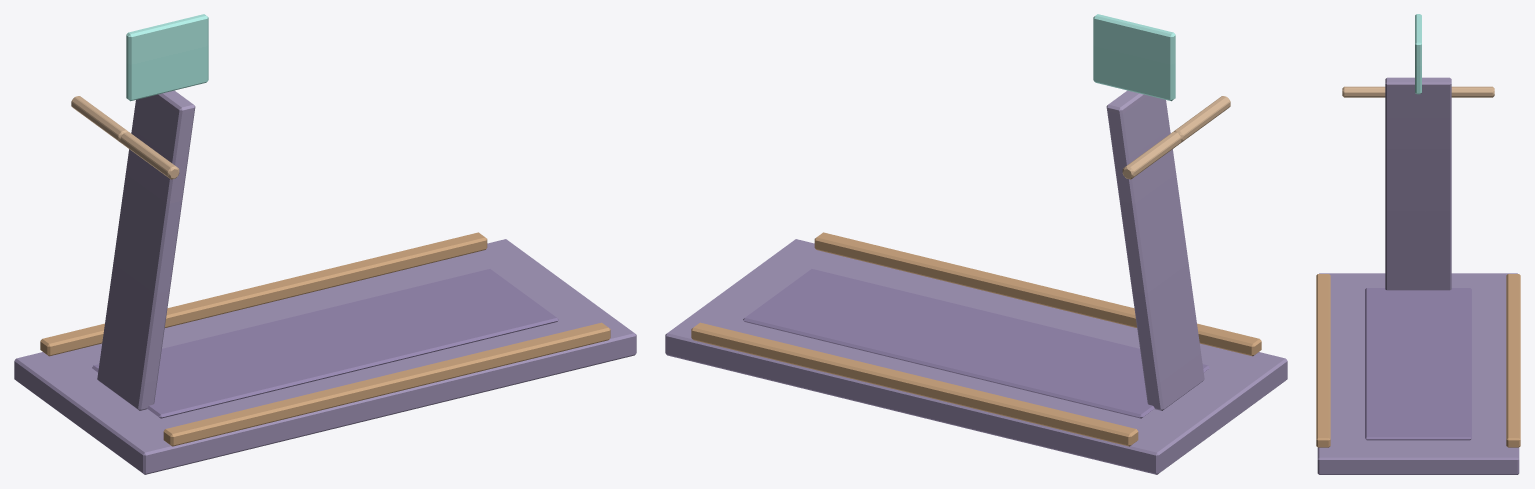
The model's file is gym-treadmill.glb.
3 renders of one model, left to right at view 1: azimuth 30°, elevation 25°; view 2: azimuth 150°, elevation 25°; view 3: azimuth 270°, elevation 25°, orthographic. The views are drawn at different scales.
Parts seen in each view (by area): view 1: treadmill; view 2: treadmill; view 3: treadmill.
Boxes of the visible parts, left/top/right/bottom form: treadmill: left=14, top=14, right=636, bottom=474; treadmill: left=665, top=14, right=1287, bottom=474; treadmill: left=1316, top=14, right=1520, bottom=474.
Bounding box in the file's own units: 1.85 × 1.37 × 0.86.
Materials: 2 (2 with a texture image).
